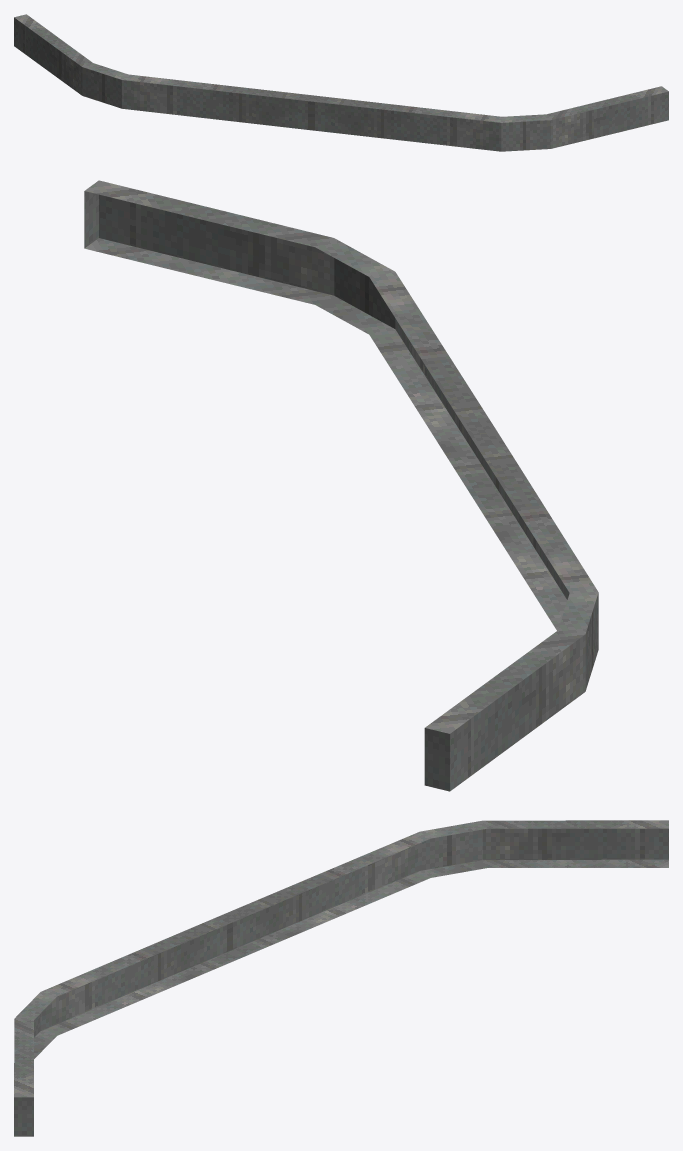
File: wall_cladding_45degrees_narrow_01.gltf
The picture shows the model from 3 angles, top to bottom: view 1: azimuth 30°, elevation 25°; view 2: azimuth 150°, elevation 25°; view 3: azimuth 270°, elevation 25°; orthographic projection. The views are drawn at different scales.
Visible parts, largest first — view 1: wall_cladding_45degrees_narrow_01; view 2: wall_cladding_45degrees_narrow_01; view 3: wall_cladding_45degrees_narrow_01.
Boxes of the visible parts, x1,y1,x2,y2 form: wall_cladding_45degrees_narrow_01: (14,14,668,151); wall_cladding_45degrees_narrow_01: (84,180,598,791); wall_cladding_45degrees_narrow_01: (14,820,668,1136).
Bounding box in the file's own units: 3.3 × 0.2188 × 3.3.
1 material, 1 textured.
